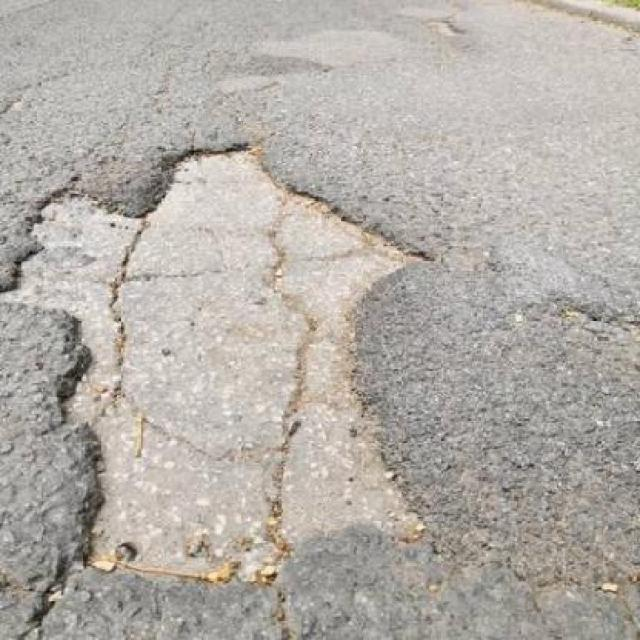pothole: (0, 134, 435, 590)
